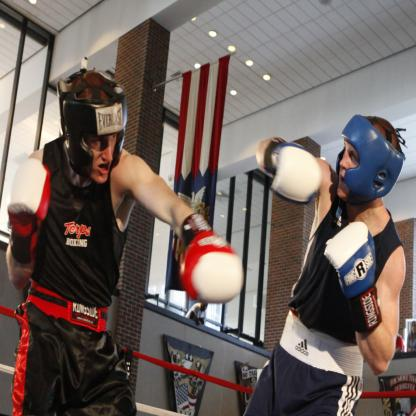Helmet: (56, 54, 128, 177), (335, 113, 407, 204)
